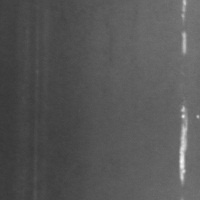scratches: (175, 101, 192, 186), (177, 0, 191, 56)
